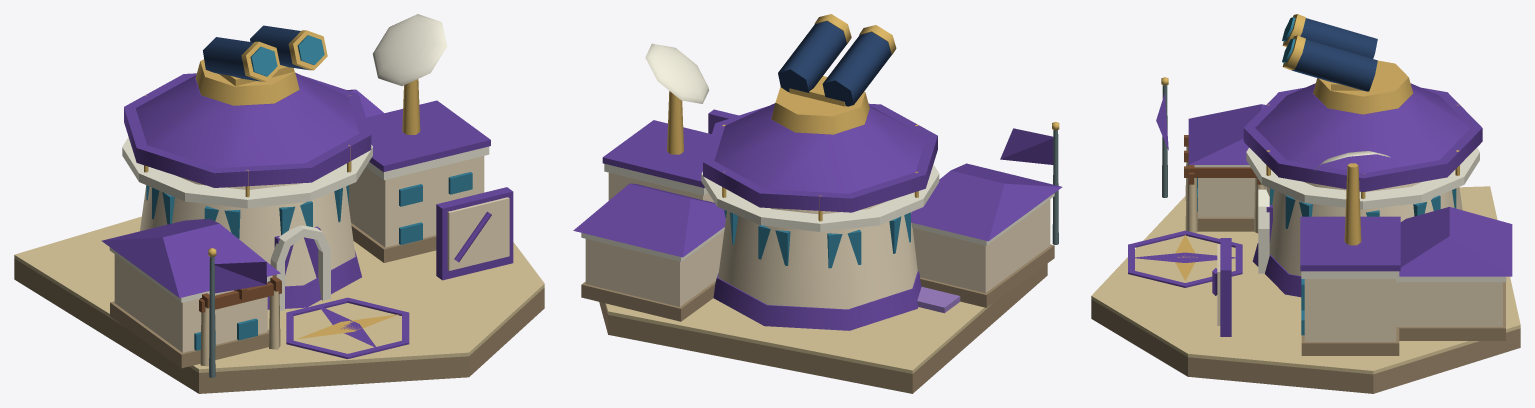
File: scout-center-lv4.glb
3 renders of one model, left to right at view 1: azimuth 30°, elevation 25°; view 2: azimuth 150°, elevation 25°; view 3: azimuth 270°, elevation 25°, orthographic. The views are drawn at different scales.
Parts seen in each view (by area): view 1: foundation_sand, faceted_roof_violet, foundation_stoneDark, octagonal_office_cream, observation_eave_violet, archive_wing_roof_violet, communications_cream, archive_wing_cream, communications_roof_violet, observation_balcony_white, dish_white, map_board_cream (+22 smaller); view 2: octagonal_office_cream, faceted_roof_violet, foundation_sand, foundation_stoneDark, analysis_wing_roof_violet, archive_wing_roof_violet, archive_wing_cream, analysis_wing_cream, observation_eave_violet, roof_binoculars_naval, office_plinth_violet, observation_balcony_white (+16 smaller); view 3: foundation_sand, faceted_roof_violet, foundation_stoneDark, analysis_wing_roof_violet, communications_cream, observation_eave_violet, communications_roof_violet, analysis_wing_cream, roof_binoculars_naval, observation_balcony_white, octagonal_office_cream, archive_wing_roof_violet (+18 smaller).
Boxes of the visible parts, x1,y1,x2,y2 form: foundation_sand: (14,216,544,372); faceted_roof_violet: (136,72,359,168); foundation_stoneDark: (14,258,544,393); octagonal_office_cream: (140,176,355,286); observation_eave_violet: (124,73,371,187); archive_wing_roof_violet: (101,219,280,297); communications_cream: (349,156,484,247); archive_wing_cream: (114,254,267,352); communications_roof_violet: (366,100,490,172); observation_balcony_white: (122,137,372,208); dish_white: (372,14,447,85); map_board_cream: (447,197,509,270); octagonal_office_cream: (718,201,917,309); faceted_roof_violet: (714,103,926,193); foundation_sand: (605,298,991,373); foundation_stoneDark: (599,263,1047,393); analysis_wing_roof_violet: (573,183,725,257); archive_wing_roof_violet: (911,163,1062,241); archive_wing_cream: (912,199,1050,293); analysis_wing_cream: (585,230,724,306); observation_eave_violet: (703,103,937,212); roof_binoculars_naval: (778,21,891,106); office_plinth_violet: (713,271,921,330); observation_balcony_white: (701,164,939,231); foundation_sand: (1091,186,1520,374); faceted_roof_violet: (1255,83,1470,173); foundation_stoneDark: (1091,299,1520,393); analysis_wing_roof_violet: (1399,207,1512,276); communications_cream: (1304,279,1396,341); observation_eave_violet: (1243,87,1482,191); communications_roof_violet: (1300,216,1400,271); analysis_wing_cream: (1396,282,1502,326); roof_binoculars_naval: (1292,18,1377,91); observation_balcony_white: (1246,147,1479,209); octagonal_office_cream: (1266,181,1462,275); archive_wing_roof_violet: (1188,104,1265,164).
Bounding box in the file's own units: 1 × 0.6559 × 0.9826.
